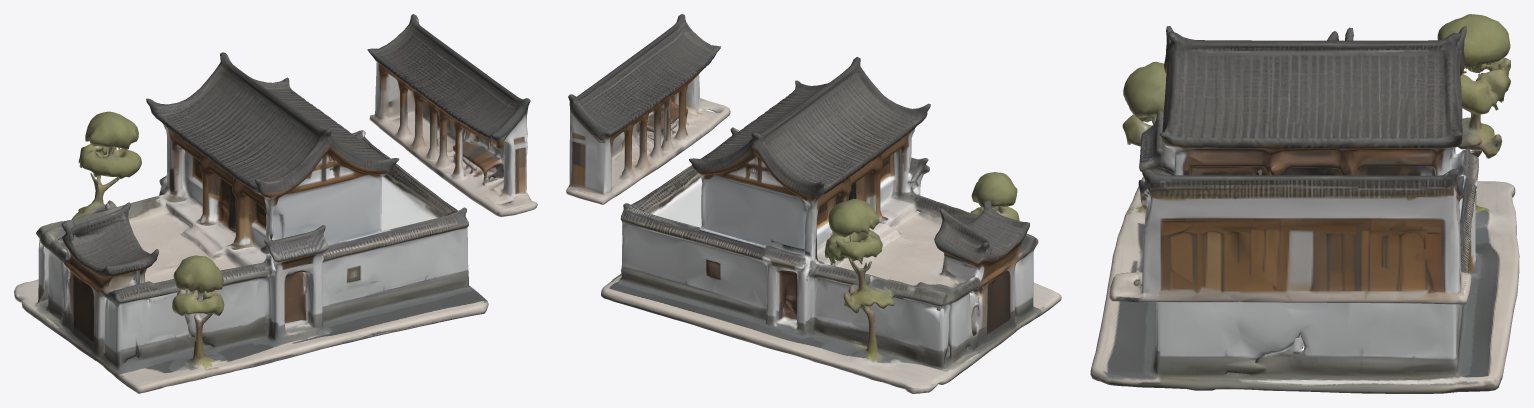
3 renders of one model, left to right at view 1: azimuth 30°, elevation 25°; view 2: azimuth 150°, elevation 25°; view 3: azimuth 270°, elevation 25°, orthographic. The views are drawn at different scales.
Parts seen in each view (by area): view 1: material.001; view 2: material.001; view 3: material.001.
Part boxes in pixels (bbox=[...]): material.001: bbox=[14, 14, 537, 393]; material.001: bbox=[566, 14, 1061, 393]; material.001: bbox=[1090, 14, 1519, 393].
Bounding box in the file's own units: 0.9687 × 0.4935 × 0.6736.
Materials: 1 (1 with a texture image).
